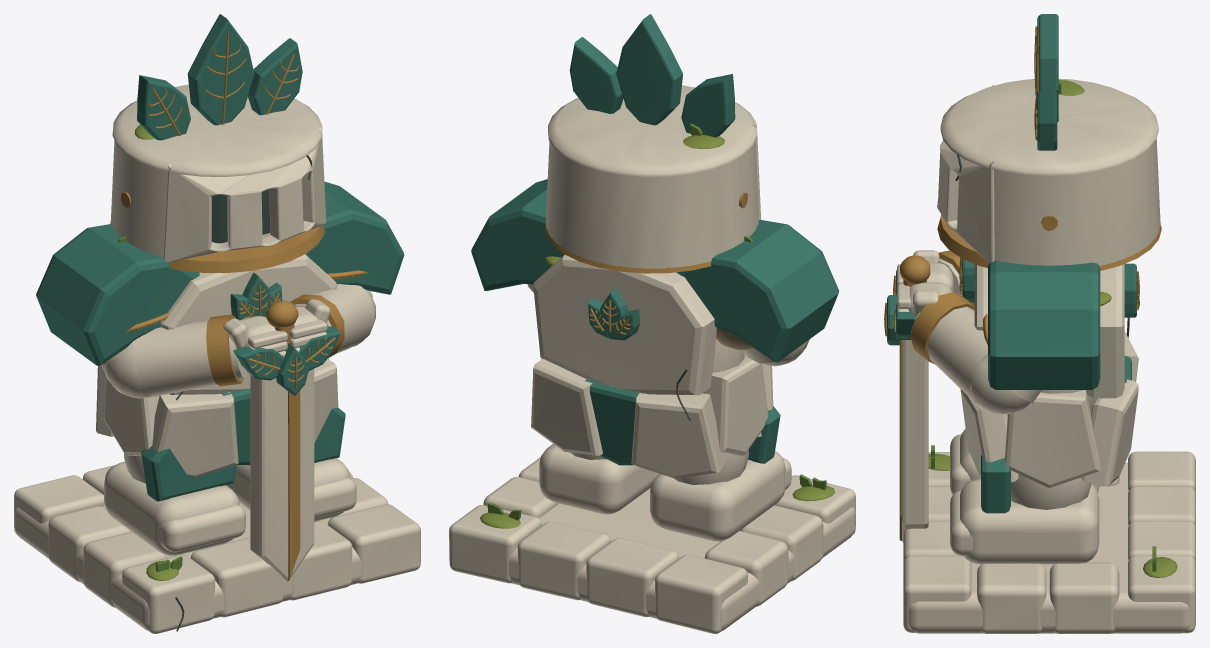
The model's file is leaf-guardian-statue-intact.glb.
3 renders of one model, left to right at view 1: azimuth 30°, elevation 25°; view 2: azimuth 150°, elevation 25°; view 3: azimuth 270°, elevation 25°, orthographic. The views are drawn at different scales.
Visible parts, largest first — view 1: guardian-statue-limestone (×2), guardian-statue-mineral-jade (×2), guardian-statue-carved-edges (×3), guardian-statue-recesses, guardian-statue-moss; view 2: guardian-statue-limestone (×2), guardian-statue-mineral-jade (×2), guardian-statue-moss, guardian-statue-carved-edges, guardian-statue-ivy; view 3: guardian-statue-limestone (×2), guardian-statue-mineral-jade (×2), guardian-statue-carved-edges (×3), guardian-statue-moss.
Part boxes in pixels (x1,y1,x2,y2): guardian-statue-limestone (×2): [14, 84, 420, 633]; guardian-statue-mineral-jade (×2): [36, 14, 404, 501]; guardian-statue-carved-edges (×3): [110, 33, 368, 580]; guardian-statue-recesses: [212, 189, 270, 243]; guardian-statue-moss: [135, 124, 178, 580]; guardian-statue-limestone (×2): [449, 85, 855, 633]; guardian-statue-mineral-jade (×2): [471, 14, 838, 465]; guardian-statue-moss: [480, 134, 834, 528]; guardian-statue-carved-edges: [545, 192, 747, 273]; guardian-statue-ivy: [487, 123, 826, 520]; guardian-statue-limestone (×2): [897, 78, 1195, 633]; guardian-statue-mineral-jade (×2): [887, 14, 1136, 513]; guardian-statue-carved-edges (×3): [884, 26, 1161, 540]; guardian-statue-moss: [928, 80, 1177, 577].
Size of the model in its own units: 2.43 by 3.89 by 1.97.
